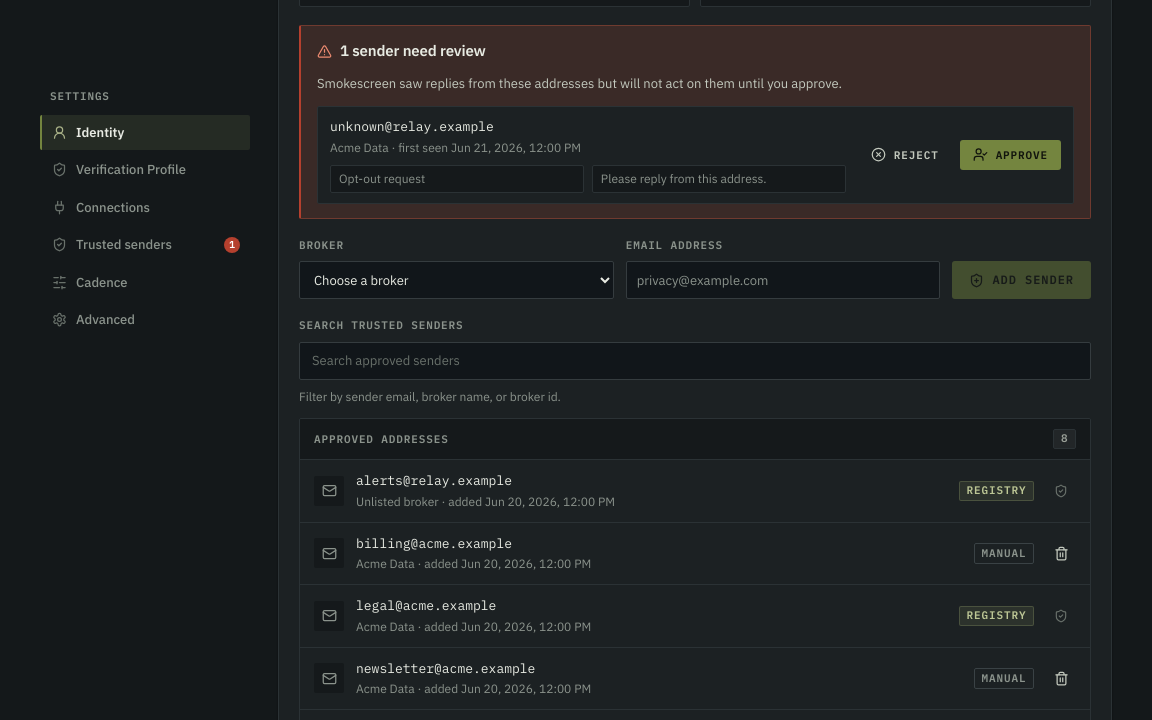
Test: SettingsPage › filters trusted senders inside a scrollable container and restores the full list when cleared
(page scrolled)
Type "SECOND" into the field labelled "Search trusted senders" at (695, 361), box [299,342,1091,380]
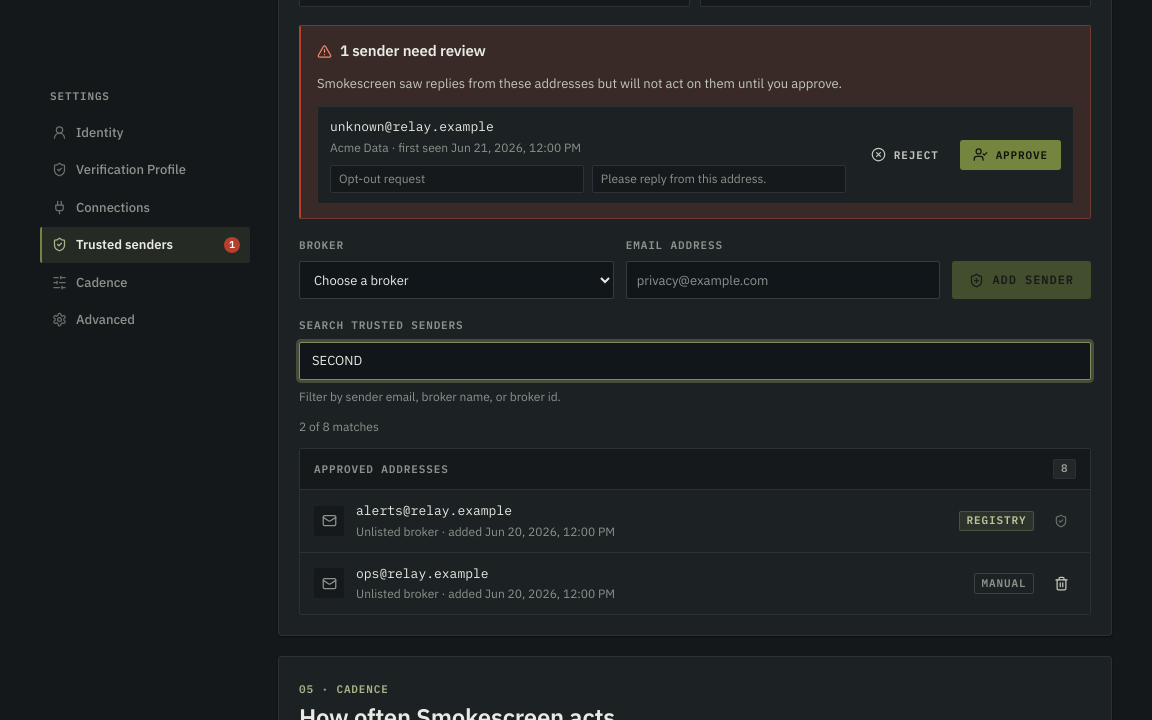
Expected: the text "ops@relay.example" is shown, [356,564,489,582]
Now the text "2 of 8 matches" is shown, box [299,419,379,434]
Clear the field labelled "Search trusted senders" at (695, 361), box [299,342,1091,380]
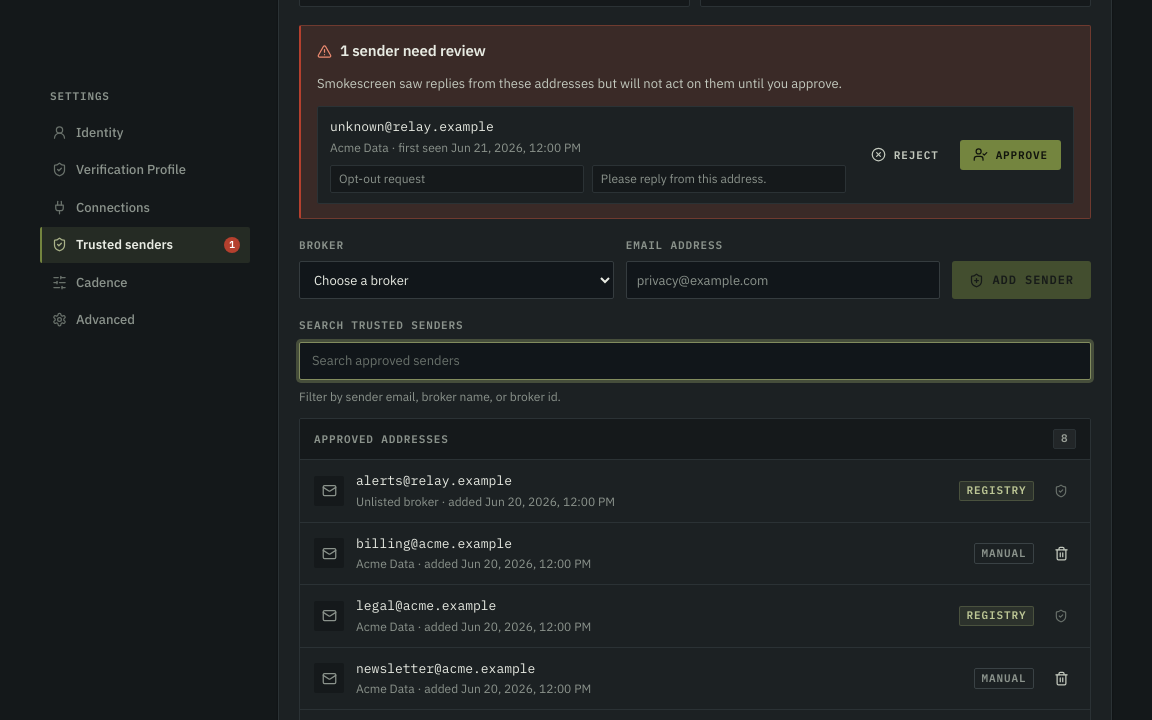
Now the text "2 of 8 matches" is gone
Type "zzz" into the field labelled "Search trusted senders" at (695, 361), box [299,342,1091,380]
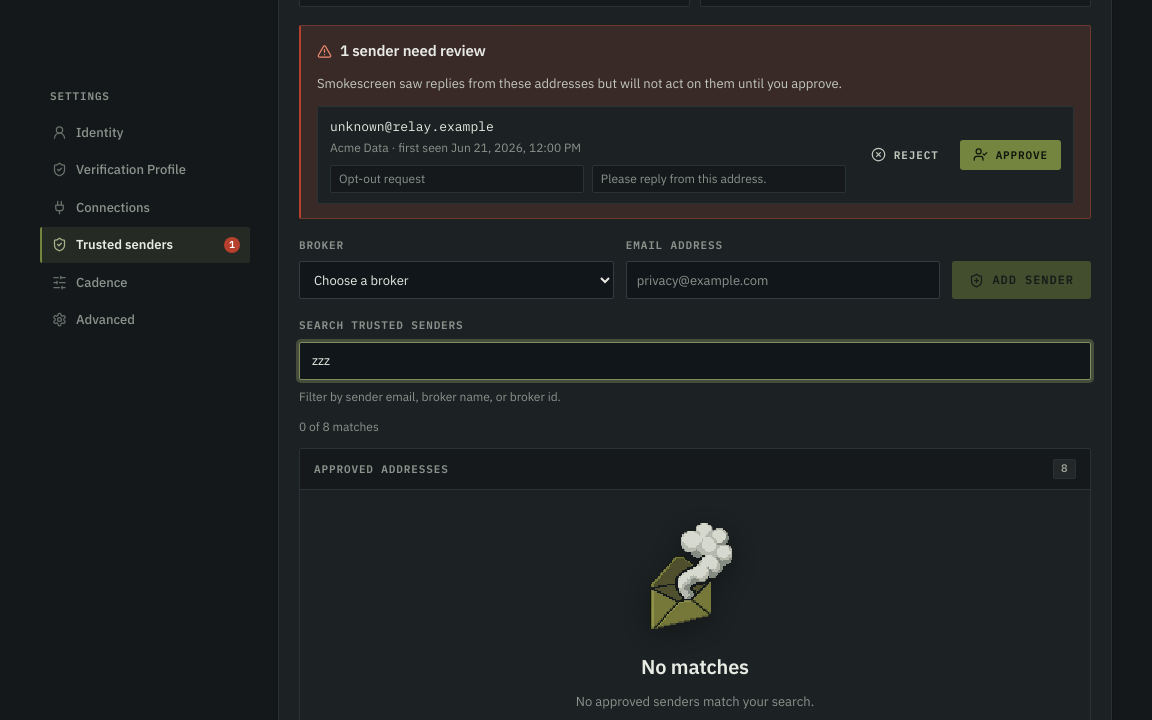
Expected: the text "ops@relay.example" is not shown
Now the text "No approved senders match your search." is shown, box [576,692,814,712]
